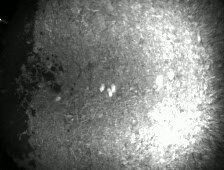corn: (154, 71, 166, 88), (96, 82, 107, 94), (105, 86, 115, 99), (109, 82, 117, 94), (52, 95, 63, 103)
